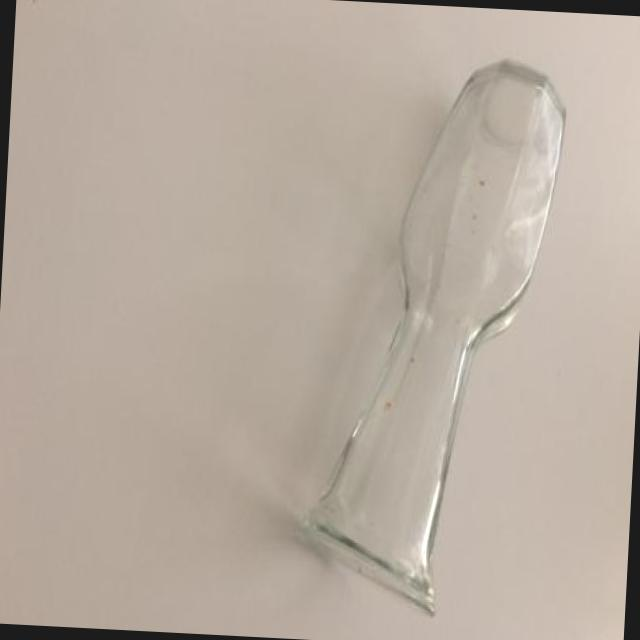chai_thuy_tinh: (299, 57, 568, 616)
